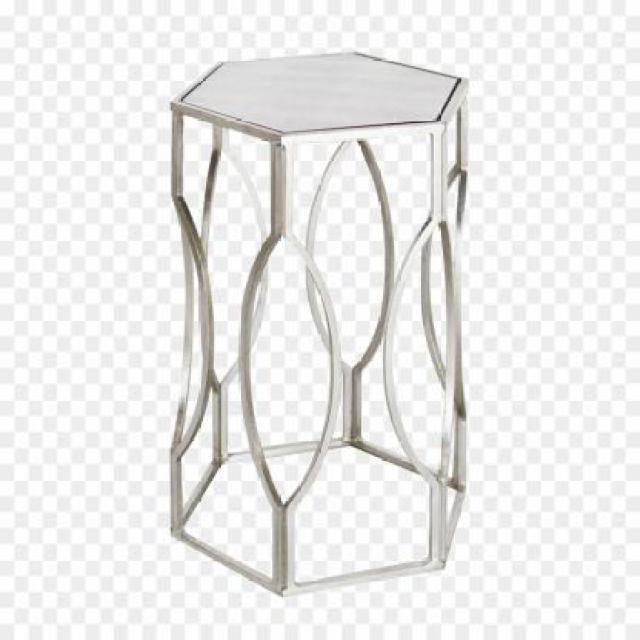table: (167, 52, 467, 597)
